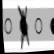correct: (47, 11, 54, 39)
no answer: (1, 13, 15, 40), (32, 15, 45, 39)
not correct: (14, 3, 33, 50)
